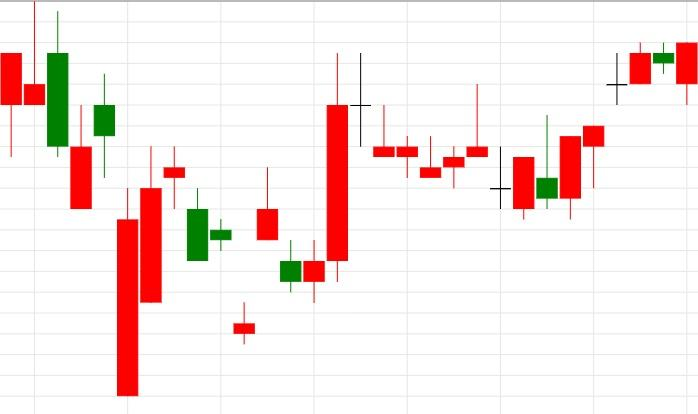inverse_hammer_rise: (466, 83, 559, 220)
